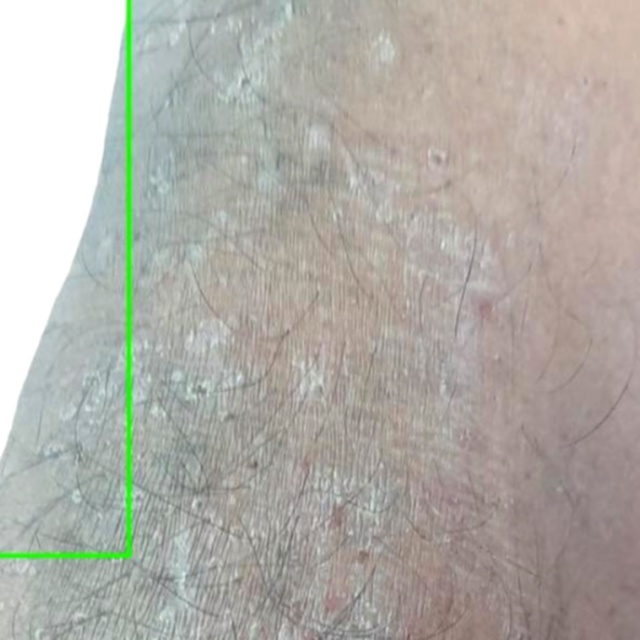Contact Dermatitis: (0, 0, 128, 557)
